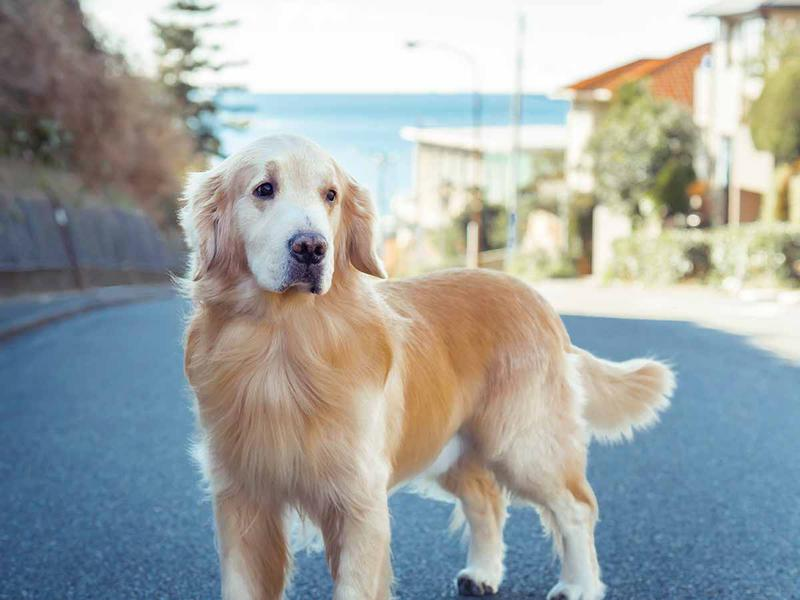dog_stand: (168, 130, 680, 600)
